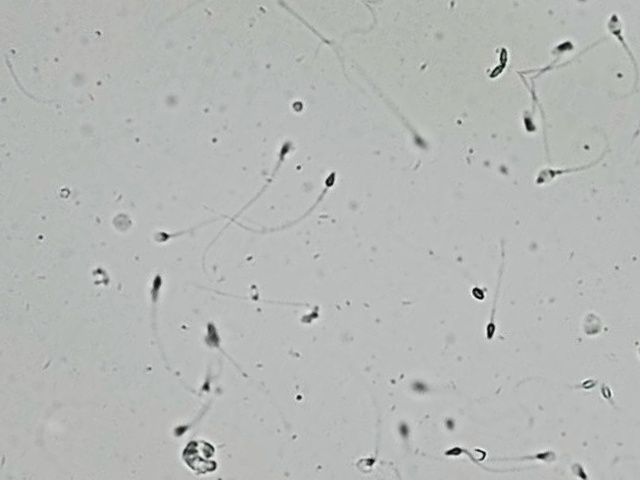sperm: (142, 48, 242, 208), (114, 206, 253, 296), (178, 84, 286, 198), (78, 222, 164, 322), (491, 68, 573, 160), (306, 44, 398, 114), (114, 156, 188, 228), (443, 220, 497, 301), (318, 364, 372, 434), (451, 402, 523, 454), (163, 295, 225, 347), (482, 46, 530, 106), (148, 358, 192, 416), (420, 416, 466, 454), (374, 406, 406, 438), (440, 257, 474, 287), (182, 347, 208, 381), (392, 364, 423, 390), (558, 359, 584, 385), (478, 50, 497, 72), (178, 0, 232, 6), (434, 406, 451, 424)
